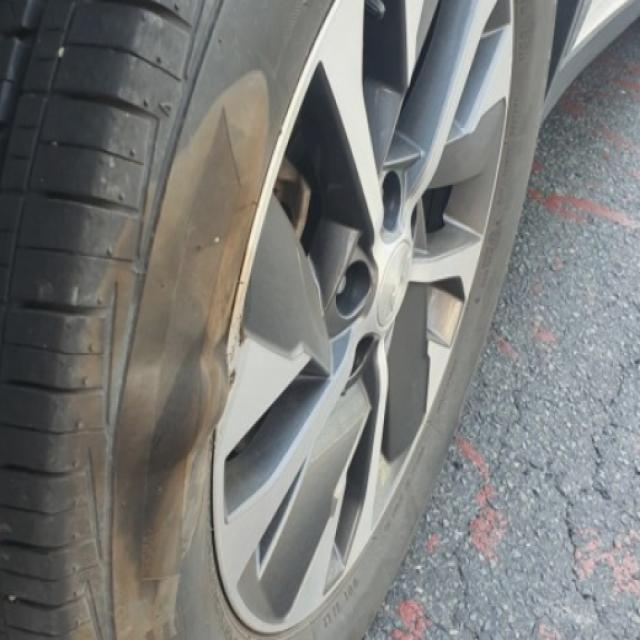Bulge: (85, 331, 232, 476)
